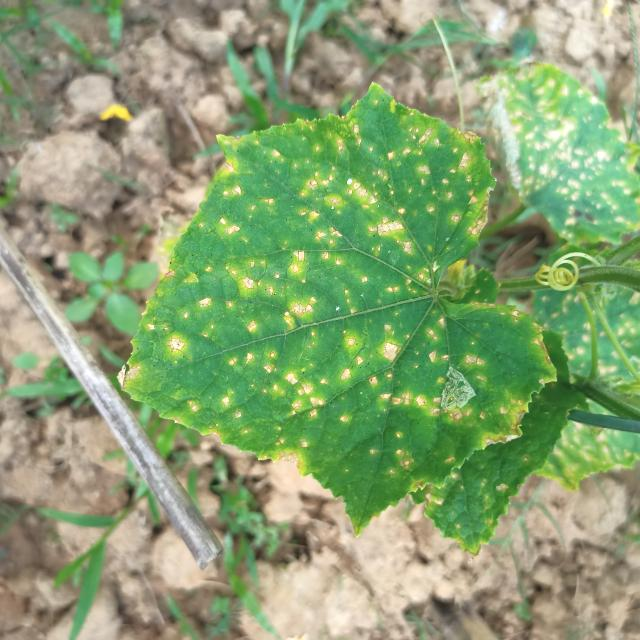disease_cucumber: (129, 122, 546, 480)
